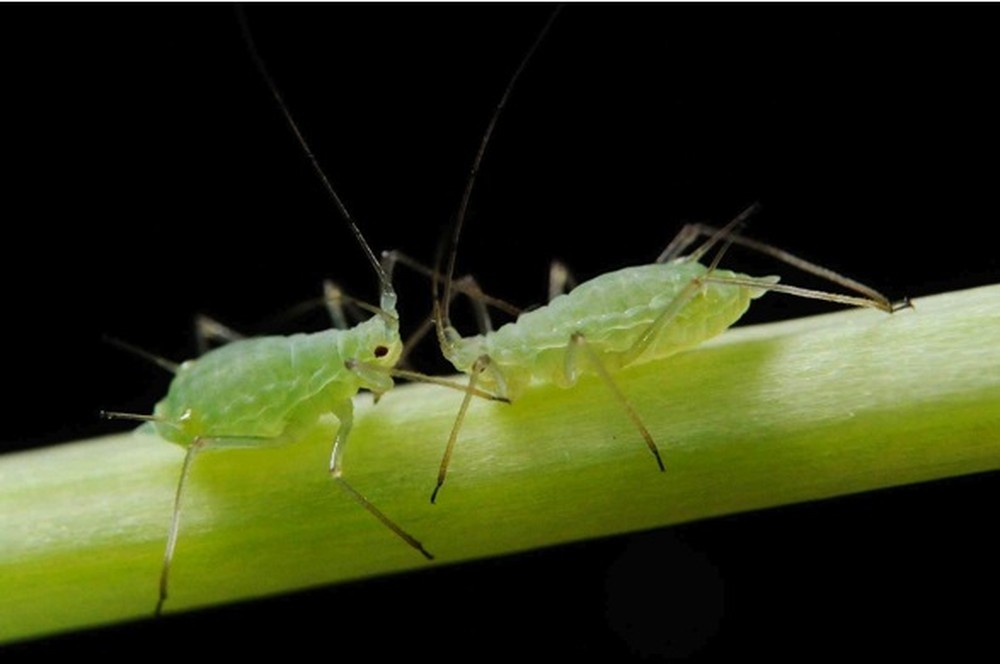Pulgon: (424, 116, 884, 496), (97, 150, 424, 554)
